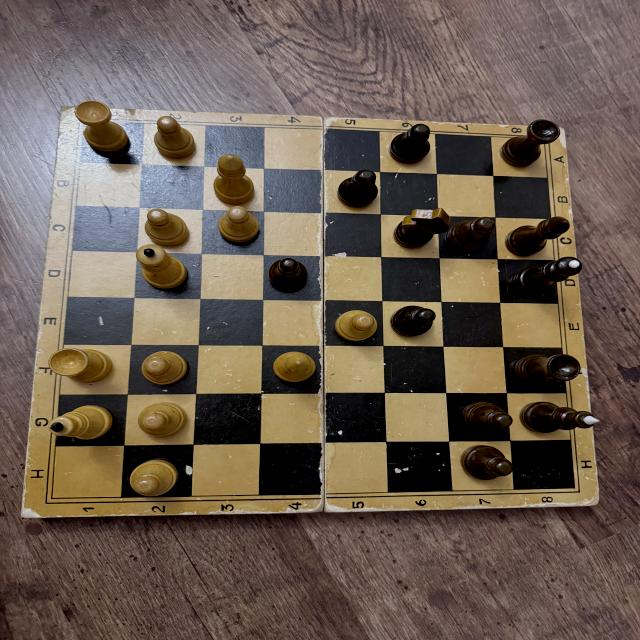black-bishop: (504, 216, 572, 257)
black-king: (521, 400, 602, 436)
black-knight: (394, 205, 449, 252)
black-pawn: (460, 442, 516, 484), (460, 397, 513, 438), (446, 213, 496, 255), (388, 122, 433, 165), (335, 167, 379, 209), (391, 302, 437, 339), (267, 257, 310, 293)
black-queen: (511, 256, 584, 296)
black-rook: (500, 118, 561, 170), (510, 350, 580, 390)
white-bishop: (213, 154, 256, 206), (272, 349, 317, 383)
white-king: (48, 406, 114, 440)
white-pawn: (142, 205, 192, 248), (150, 115, 197, 158), (128, 460, 176, 499), (136, 402, 186, 438), (217, 203, 259, 244), (141, 351, 187, 384), (335, 308, 378, 341)
white-queen: (133, 244, 190, 291)
white-rook: (75, 100, 131, 155), (48, 349, 114, 382)
